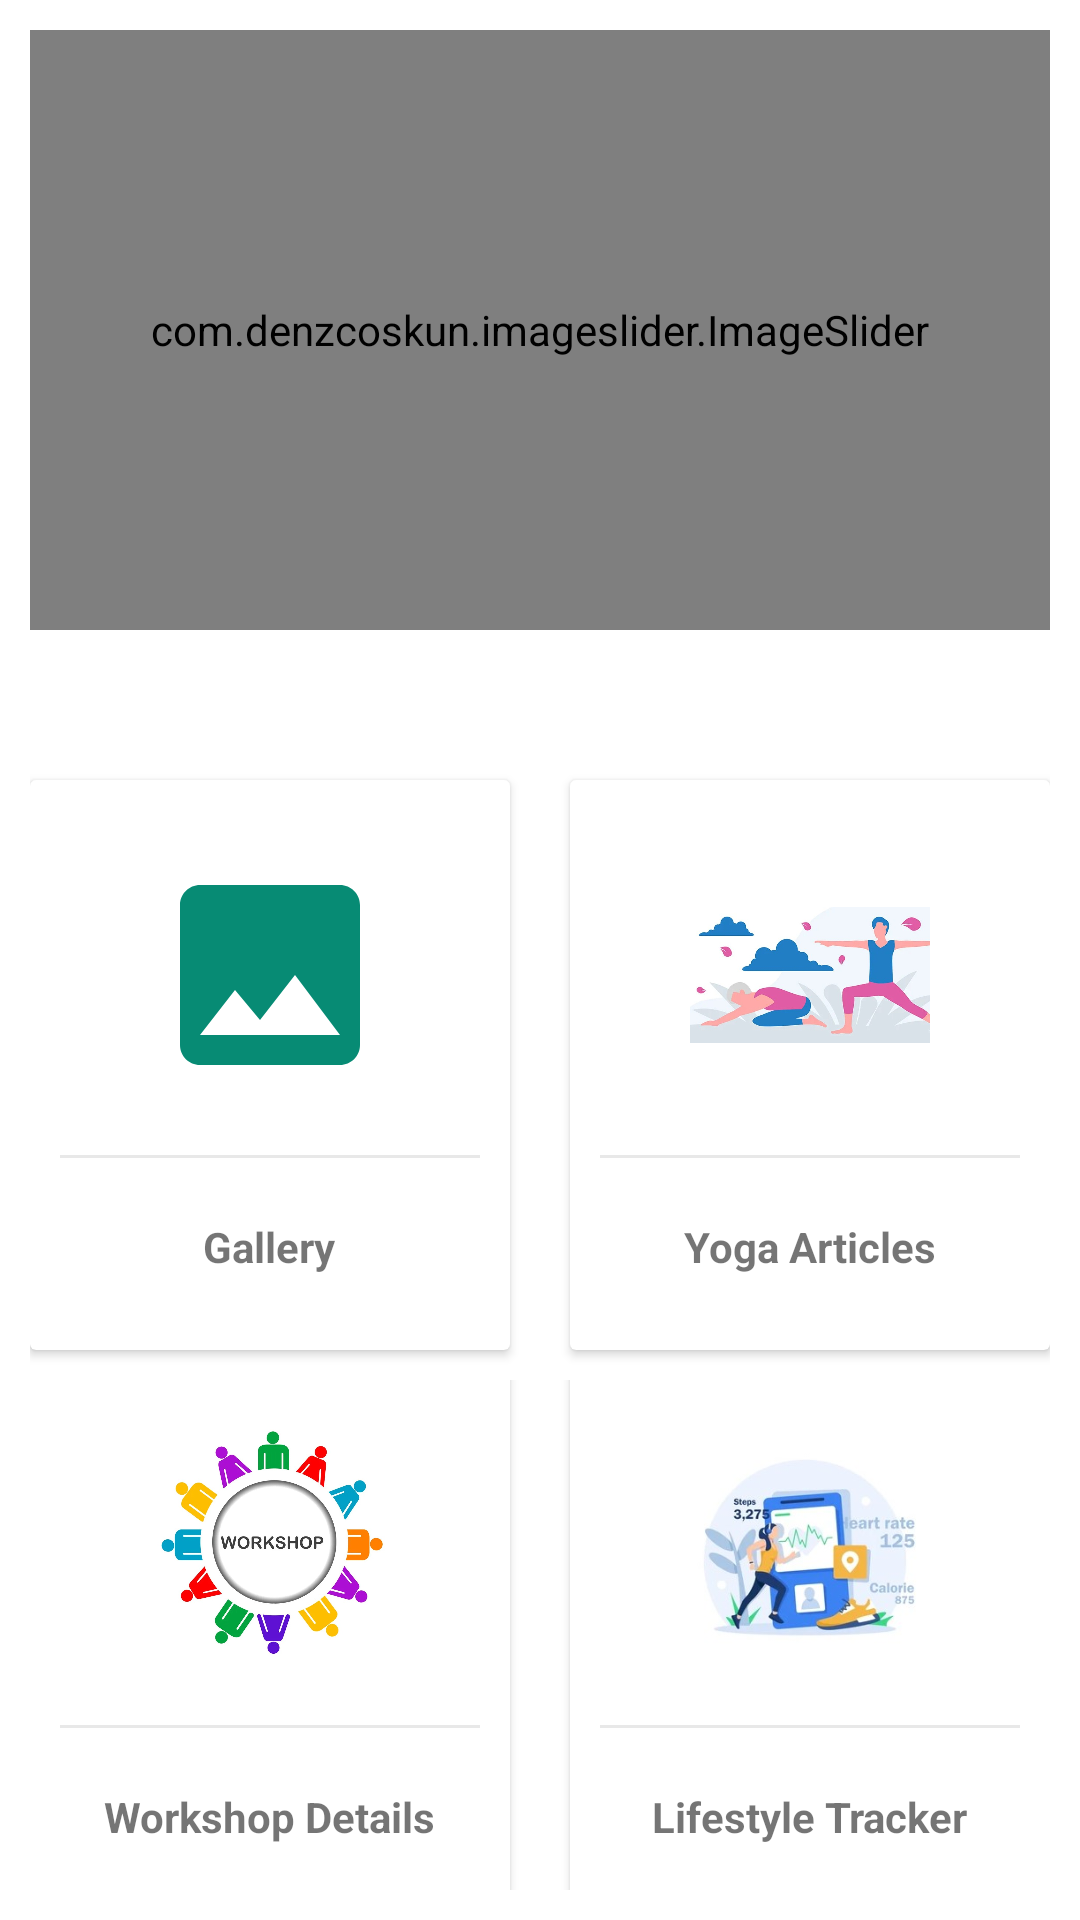

Named icons in this screenshot (1080w x 1920h) and their bounding boxes, (x1=x1, y1=y1, x2=x2, y2=y2):
photos: (x1=180, y1=885, x2=360, y2=1065)
yogatemp: (x1=690, y1=916, x2=930, y2=1043)
